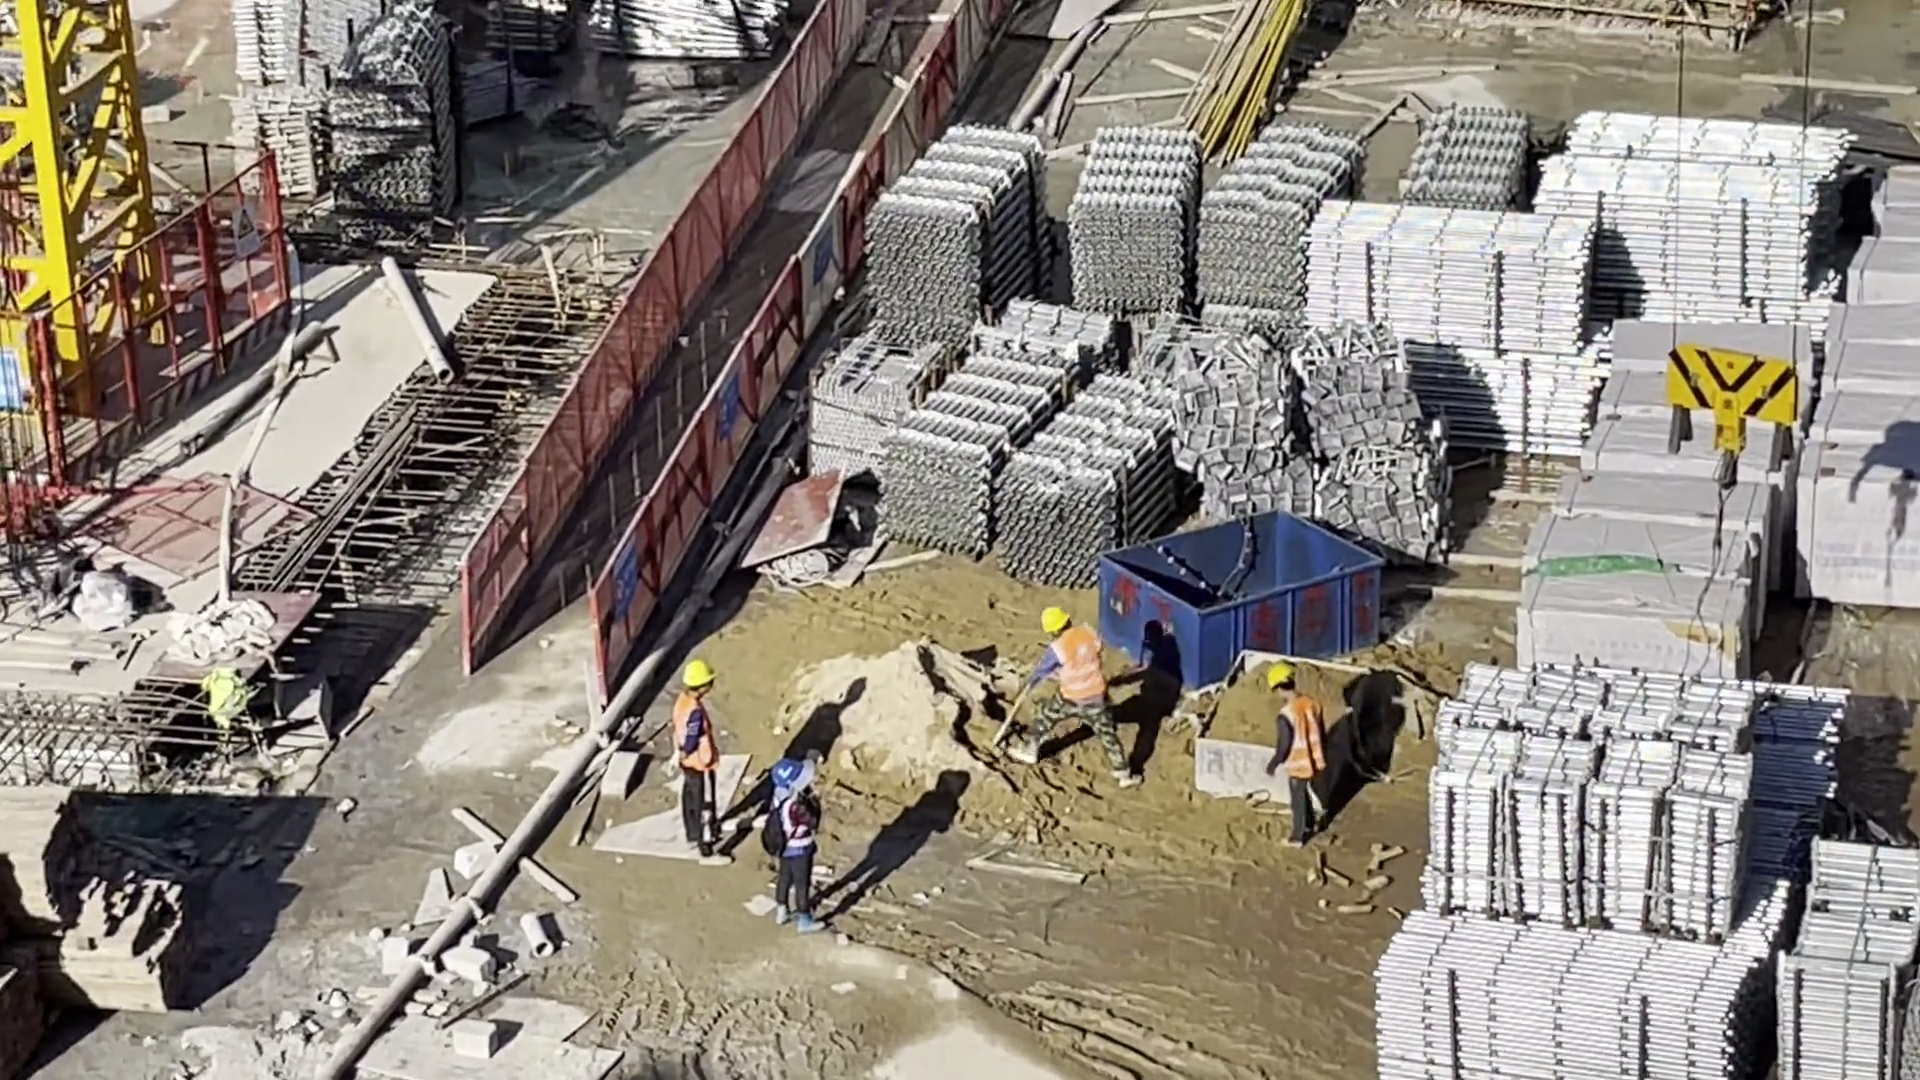fence: (446, 1, 973, 697)
helmet: (670, 652, 732, 712), (763, 759, 815, 790), (1028, 601, 1072, 635), (1264, 656, 1300, 696)
hook: (1645, 319, 1798, 472)
hopper: (1092, 507, 1382, 652), (1216, 636, 1322, 797)
person: (1014, 604, 1159, 816), (648, 653, 740, 869), (1254, 659, 1337, 849), (759, 762, 841, 927)
scaffold: (890, 110, 1546, 523), (1458, 636, 1915, 1080), (1566, 96, 1827, 307)
vest: (1043, 632, 1118, 699), (669, 694, 724, 782), (1275, 693, 1324, 773)
wood: (1, 777, 197, 1017)
